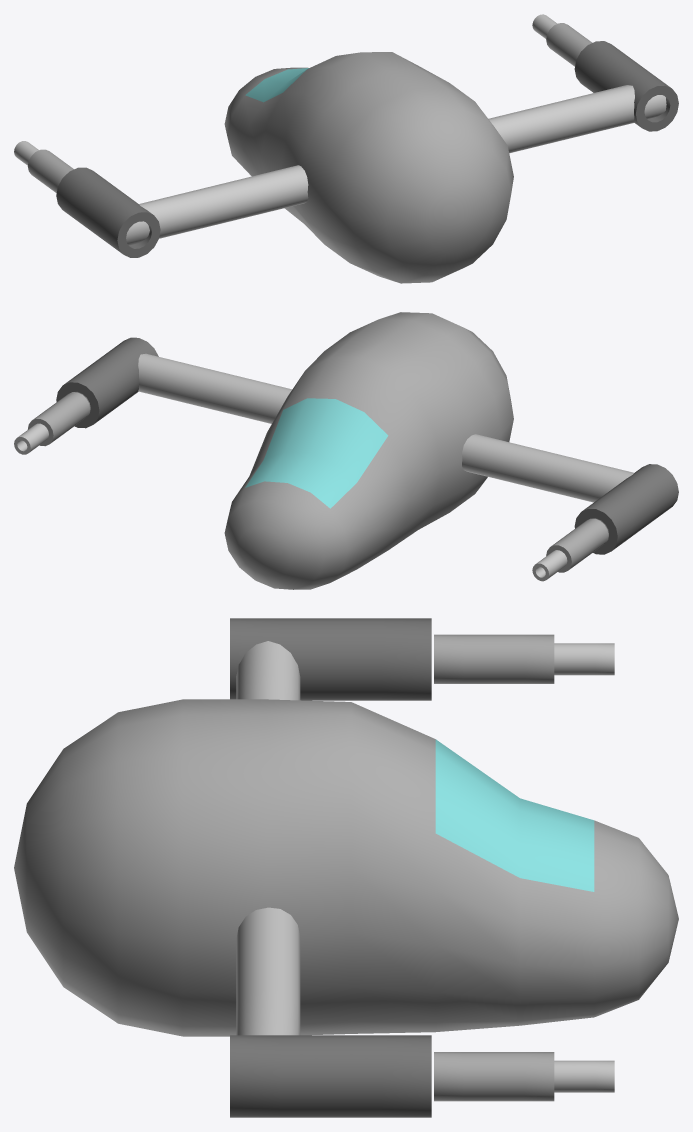
File: ship.fbx
The picture shows the model from 3 angles, top to bottom: view 1: azimuth 30°, elevation 25°; view 2: azimuth 150°, elevation 25°; view 3: azimuth 270°, elevation 25°; orthographic projection. The views are drawn at different scales.
Visible parts, largest first — view 1: Capsule, Cylinder, Cylinder_1, Tube, Tube_3, Tube_1, Tube_4; view 2: Capsule, Cylinder, Cylinder_1, Tube, Tube_3, Tube_1, Tube_4, Tube_5, Tube_2; view 3: Capsule, Tube_3, Tube, Cylinder_1, Tube_4, Tube_1, Cylinder, Tube_5, Tube_2.
Boxes of the visible parts, box(x1,y1,x2,y2) form: Capsule: box(224, 52, 513, 283); Cylinder: box(126, 165, 308, 245); Cylinder_1: box(488, 85, 666, 153); Tube: box(56, 167, 160, 257); Tube_3: box(574, 41, 678, 131); Tube_1: box(27, 149, 73, 192); Tube_4: box(546, 23, 592, 66); Capsule: box(224, 312, 513, 589); Cylinder: box(462, 434, 633, 502); Cylinder_1: box(138, 353, 292, 423); Tube: box(574, 464, 678, 554); Tube_3: box(56, 337, 158, 428); Tube_1: box(546, 518, 608, 572); Tube_4: box(27, 392, 89, 446); Tube_5: box(14, 423, 48, 454); Tube_2: box(532, 550, 567, 581); Capsule: box(14, 699, 678, 1036); Tube_3: box(230, 1035, 431, 1117); Tube: box(230, 618, 431, 700); Cylinder_1: box(236, 907, 300, 1035); Tube_4: box(434, 1052, 554, 1101); Tube_1: box(434, 634, 554, 683); Cylinder: box(236, 641, 300, 700); Tube_5: box(554, 1060, 614, 1092); Tube_2: box(554, 643, 614, 675).
Bounding box in the file's own units: 317 × 100 × 197.
